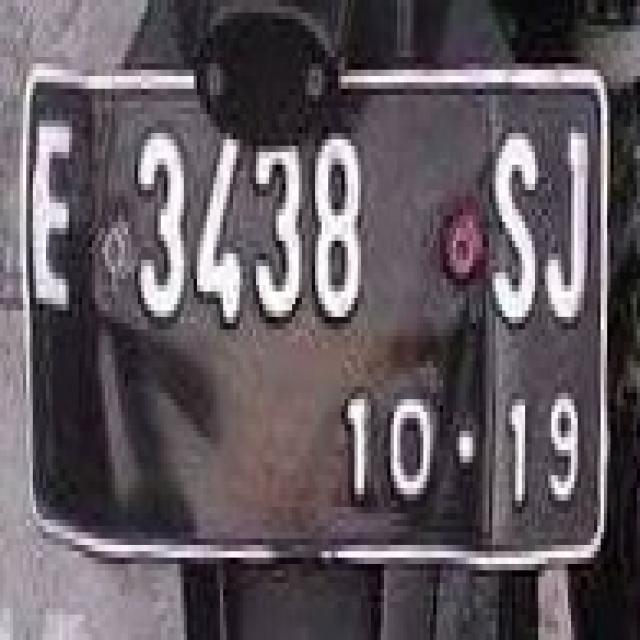plate: (17, 59, 605, 553)
